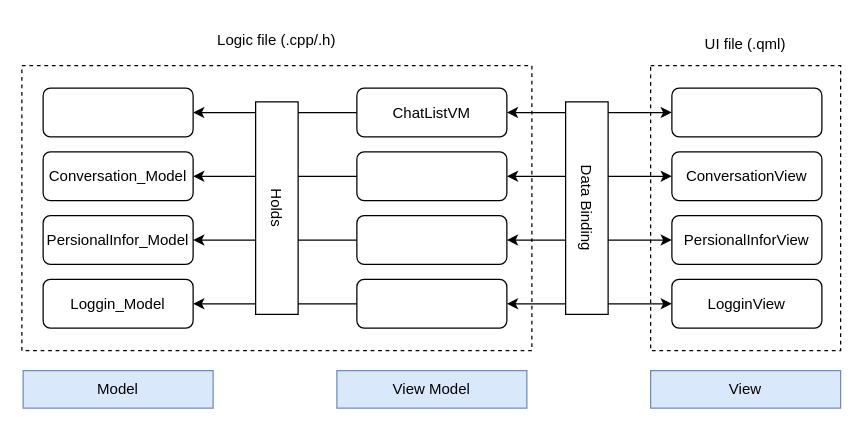
The diagram is 863 pixels wide and 430 high, and some of its shapes have lost their labels. The centre of each missing label's shape, as x and y in pixels:
"ChatList_Model" belongs at [117,112].
"ChatListView" belongs at [746,112].
"ConversationVM" belongs at [431,176].
"LogginVM" belongs at [431,303].
"PersionalInforVM" belongs at [431,239].
